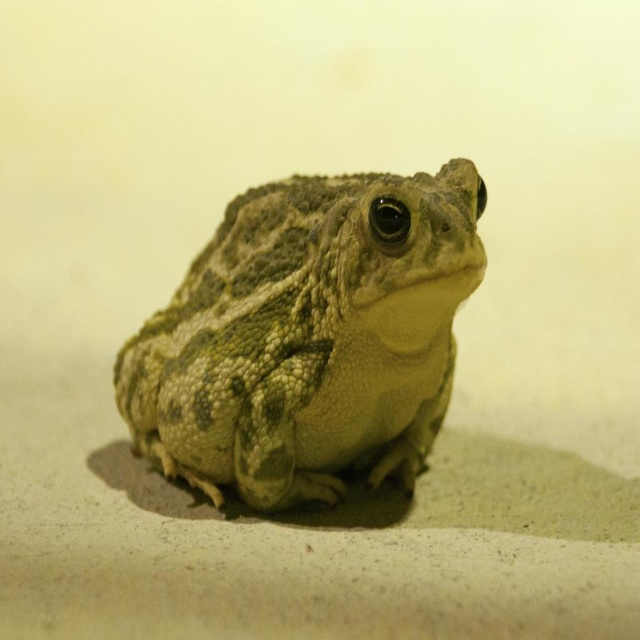Frog: (112, 157, 487, 513)
